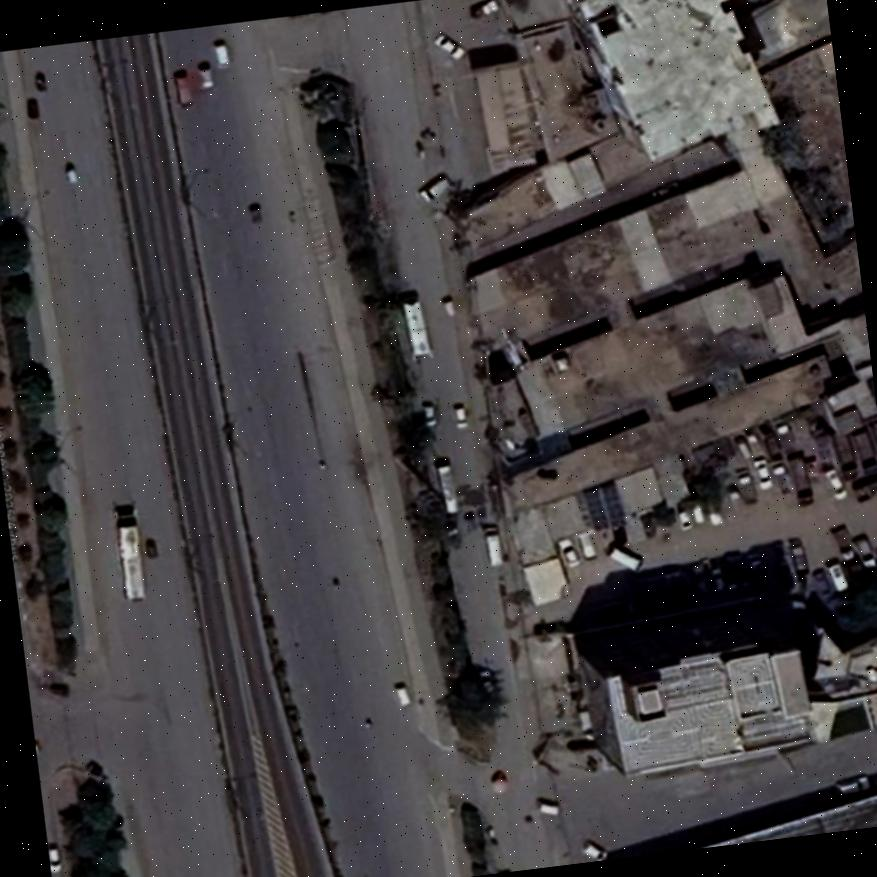Solarpanel: (583, 483, 624, 529)
